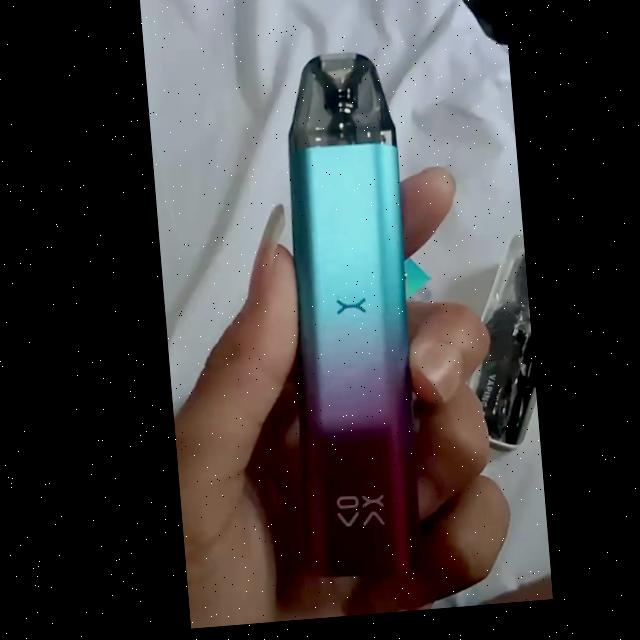vape: (266, 55, 420, 588)
